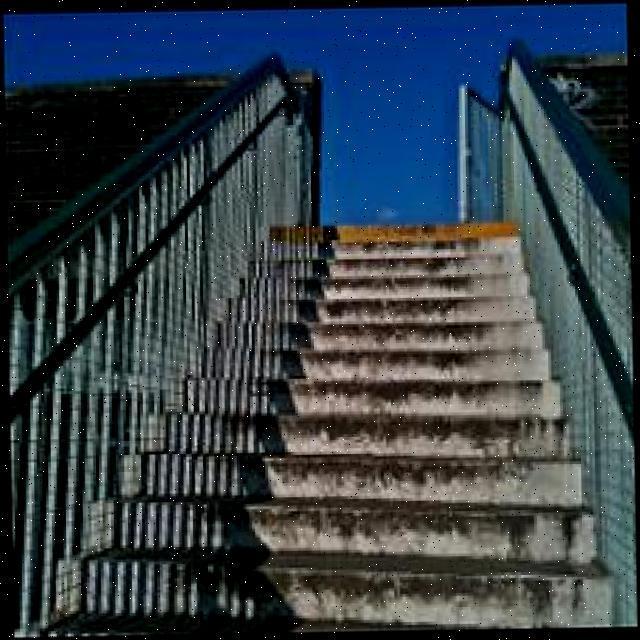stairs: (236, 215, 614, 632)
